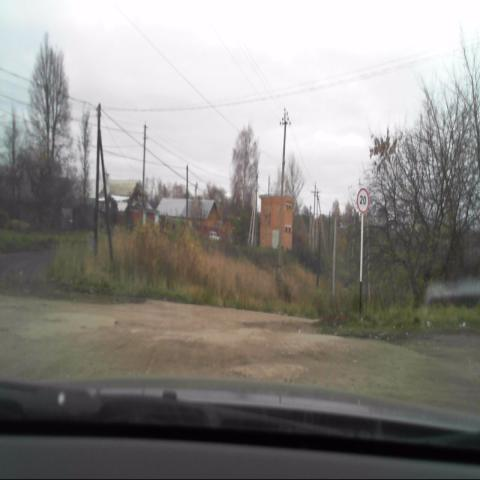3_24: (357, 186, 370, 215)
